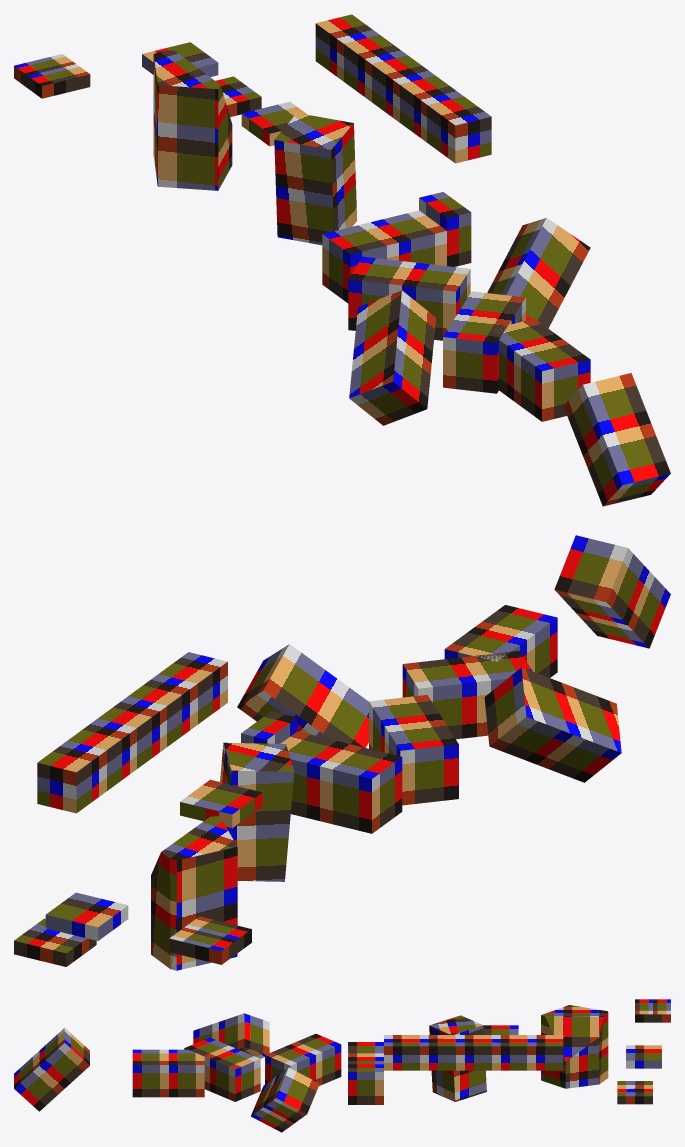
The picture shows the model from 3 angles, top to bottom: view 1: azimuth 30°, elevation 25°; view 2: azimuth 150°, elevation 25°; view 3: azimuth 270°, elevation 25°; orthographic projection. The views are drawn at different scales.
Visible parts, largest first — view 1: entity0_brush11, entity0_brush6, entity0_brush4, entity0_brush10, entity0_brush14, entity0_brush13, entity0_brush12, entity0_brush0, entity0_brush9, entity0_brush8, entity0_brush1, entity0_brush7 (+3 smaller); view 2: entity0_brush11, entity0_brush10, entity0_brush0, entity0_brush4, entity0_brush14, entity0_brush12, entity0_brush6, entity0_brush8, entity0_brush9, entity0_brush13, entity0_brush3, entity0_brush1 (+3 smaller); view 3: entity0_brush11, entity0_brush4, entity0_brush14, entity0_brush13, entity0_brush9, entity0_brush12, entity0_brush8, entity0_brush6, entity0_brush10, entity0_brush7, entity0_brush0, entity0_brush1 (+3 smaller).
Boxes of the visible parts, x1=… form: entity0_brush11: x1=315, y1=14, x2=491, y2=163; entity0_brush6: x1=274, y1=113, x2=357, y2=245; entity0_brush4: x1=153, y1=50, x2=232, y2=190; entity0_brush10: x1=349, y1=290, x2=435, y2=425; entity0_brush14: x1=563, y1=373, x2=670, y2=506; entity0_brush13: x1=498, y1=318, x2=590, y2=421; entity0_brush12: x1=487, y1=218, x2=590, y2=328; entity0_brush0: x1=322, y1=210, x2=446, y2=303; entity0_brush9: x1=443, y1=291, x2=525, y2=393; entity0_brush8: x1=348, y1=256, x2=470, y2=340; entity0_brush1: x1=14, y1=54, x2=90, y2=98; entity0_brush7: x1=419, y1=192, x2=471, y2=266; entity0_brush11: x1=37, y1=652, x2=227, y2=813; entity0_brush10: x1=484, y1=667, x2=621, y2=782; entity0_brush0: x1=280, y1=731, x2=402, y2=833; entity0_brush4: x1=151, y1=816, x2=237, y2=970; entity0_brush14: x1=554, y1=535, x2=670, y2=648; entity0_brush12: x1=237, y1=644, x2=368, y2=747; entity0_brush6: x1=220, y1=742, x2=294, y2=881; entity0_brush8: x1=369, y1=695, x2=458, y2=805; entity0_brush9: x1=402, y1=651, x2=531, y2=739; entity0_brush13: x1=444, y1=605, x2=557, y2=677; entity0_brush3: x1=45, y1=892, x2=128, y2=940; entity0_brush1: x1=169, y1=916, x2=251, y2=964; entity0_brush11: x1=384, y1=1035, x2=563, y2=1070; entity0_brush4: x1=541, y1=1005, x2=608, y2=1088; entity0_brush14: x1=14, y1=1028, x2=89, y2=1111; entity0_brush13: x1=132, y1=1049, x2=204, y2=1097; entity0_brush9: x1=184, y1=1037, x2=260, y2=1101; entity0_brush12: x1=251, y1=1067, x2=319, y2=1132; entity0_brush8: x1=265, y1=1033, x2=341, y2=1085; entity0_brush6: x1=429, y1=1015, x2=486, y2=1101; entity0_brush10: x1=193, y1=1013, x2=269, y2=1058; entity0_brush7: x1=348, y1=1064, x2=383, y2=1104; entity0_brush0: x1=348, y1=1042, x2=383, y2=1104; entity0_brush1: x1=635, y1=999, x2=670, y2=1022.
Size of the model in its own units: 379 by 203 by 1172.
